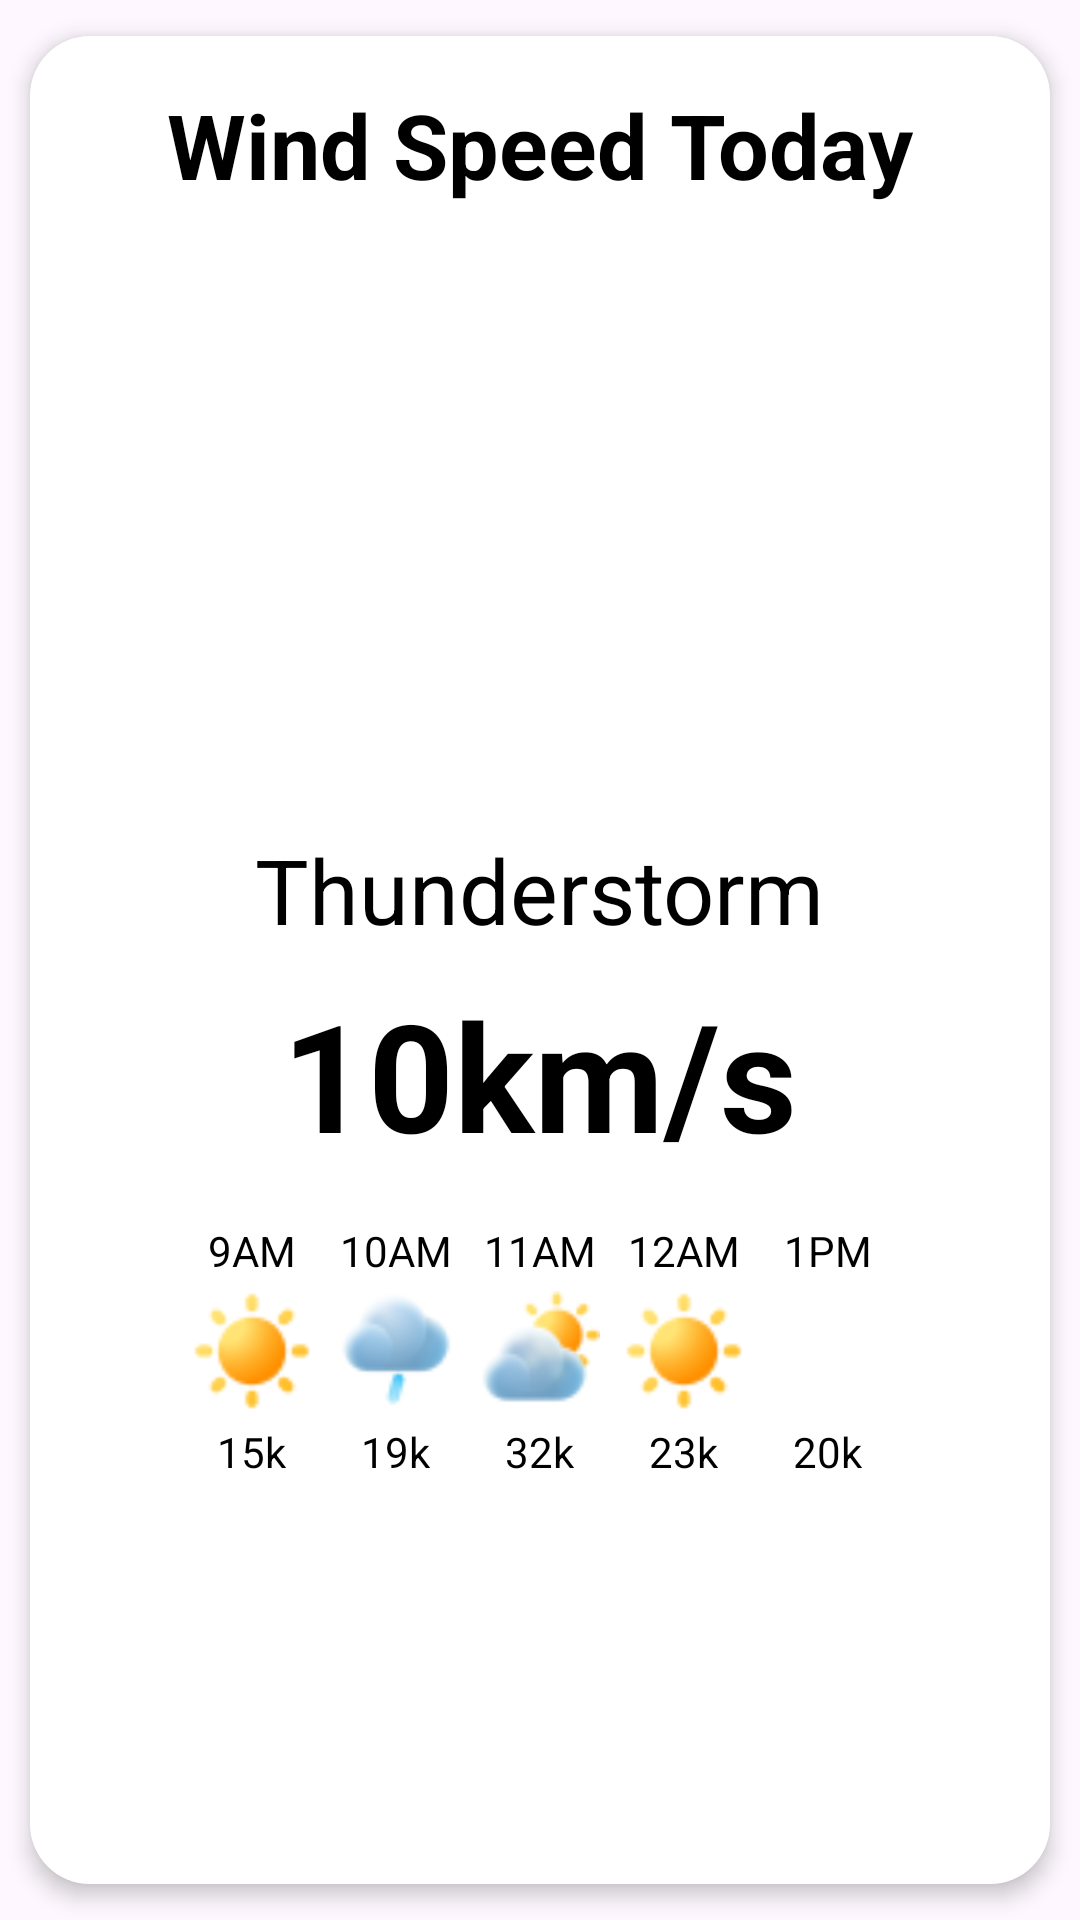

Screen size 1080*1920. Icon name, then its box in pixels as (x1, y1, x2, y2):
rain: (345, 1301, 450, 1404)
sun cloudy: (484, 1291, 600, 1402)
sunny: (194, 1293, 310, 1409), (626, 1293, 742, 1409)
